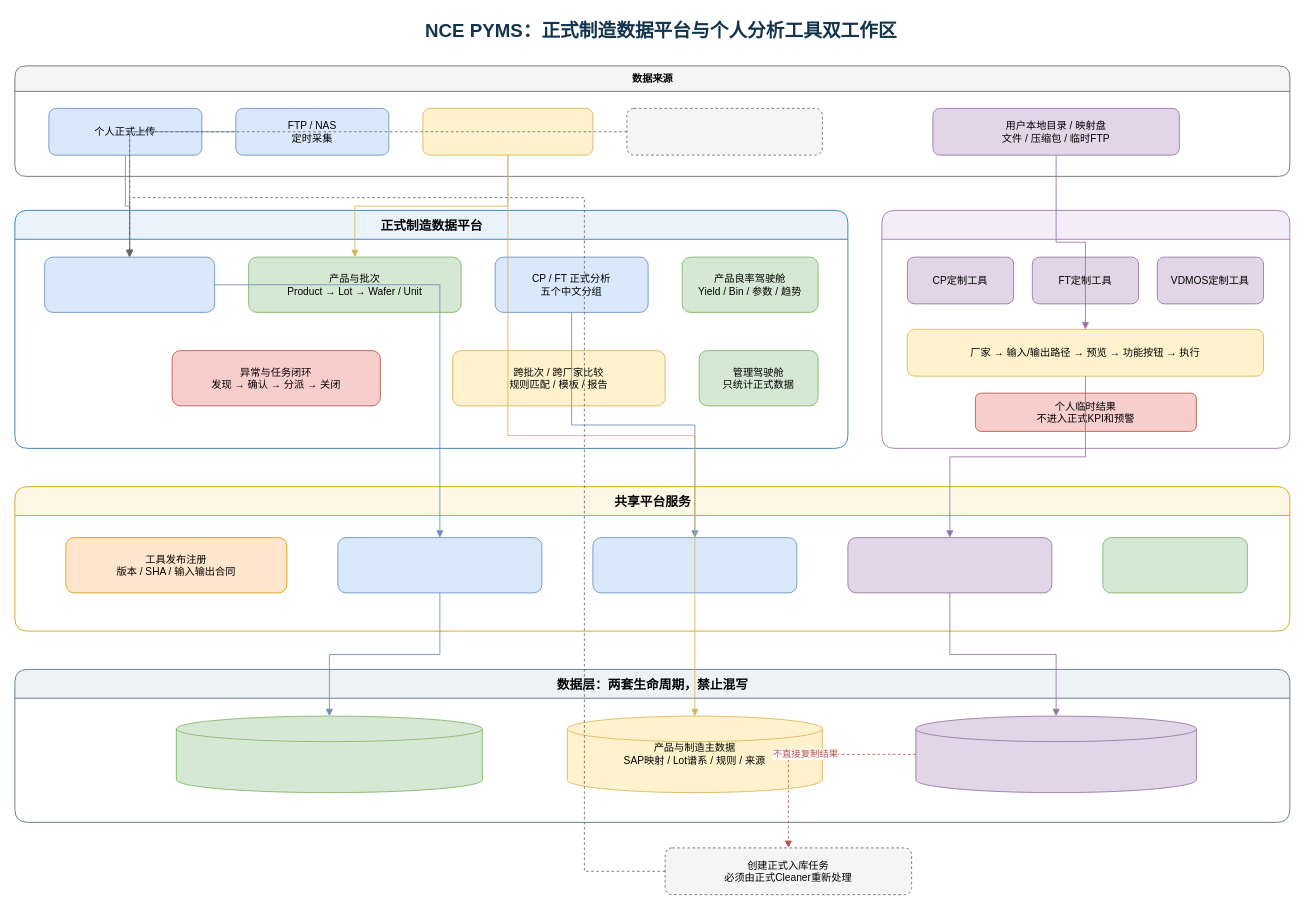
This 1305x910 diagram has some shape labels left out. The shapes that lost their labels are listed below. From the top down, each one's box as (x1, y1, x2, y2) in pixels, then its label:
(422, 108, 593, 155): SAP Business One 产品与订单
(626, 108, 822, 155): 未来：WAT / 封装 / WIP 可靠性 / RMA
(44, 256, 215, 312): 数据接入中心 上传 / FTP / 去重 / 任务
(881, 210, 1290, 448): 个人分析工具（独立工作区）
(337, 537, 542, 593): 正式Cleaner Runner DQ / Canonical Writer
(592, 537, 797, 593): 分析与规则服务 自动匹配 / 统计 / 导出
(847, 537, 1052, 593): Personal Tool Runner 直接路径 / 临时Workspace
(1102, 537, 1247, 593): 身份与权限 Owner / 数据域 / 管理员
(176, 715, 482, 793): 正式 Canonical Dataset CP / FT / 版本 / 追溯 / 长期保存
(915, 715, 1196, 793): 个人 Quick Workspace Owner-only / 临时 / 制品 / 到期清理
